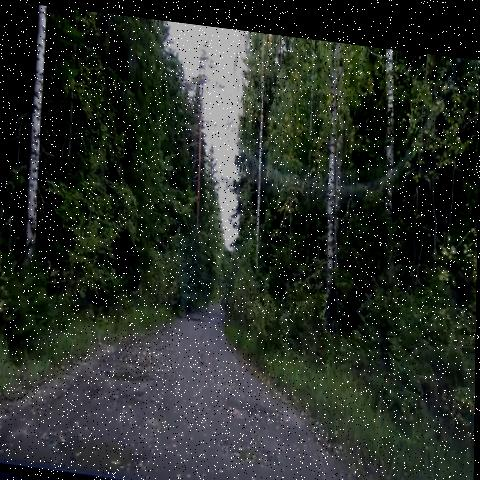pothole: (39, 408, 160, 478), (211, 431, 302, 467), (224, 384, 286, 427), (96, 349, 159, 386), (110, 377, 156, 415), (121, 346, 156, 370), (183, 303, 206, 324)
